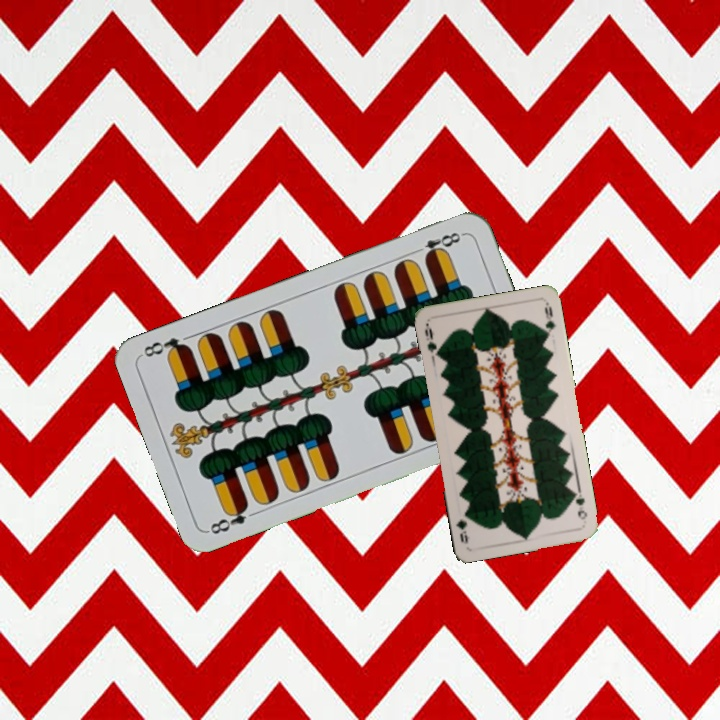E8: (409, 228, 466, 262), (205, 499, 251, 537)
G9: (421, 320, 443, 360), (569, 485, 590, 522)
